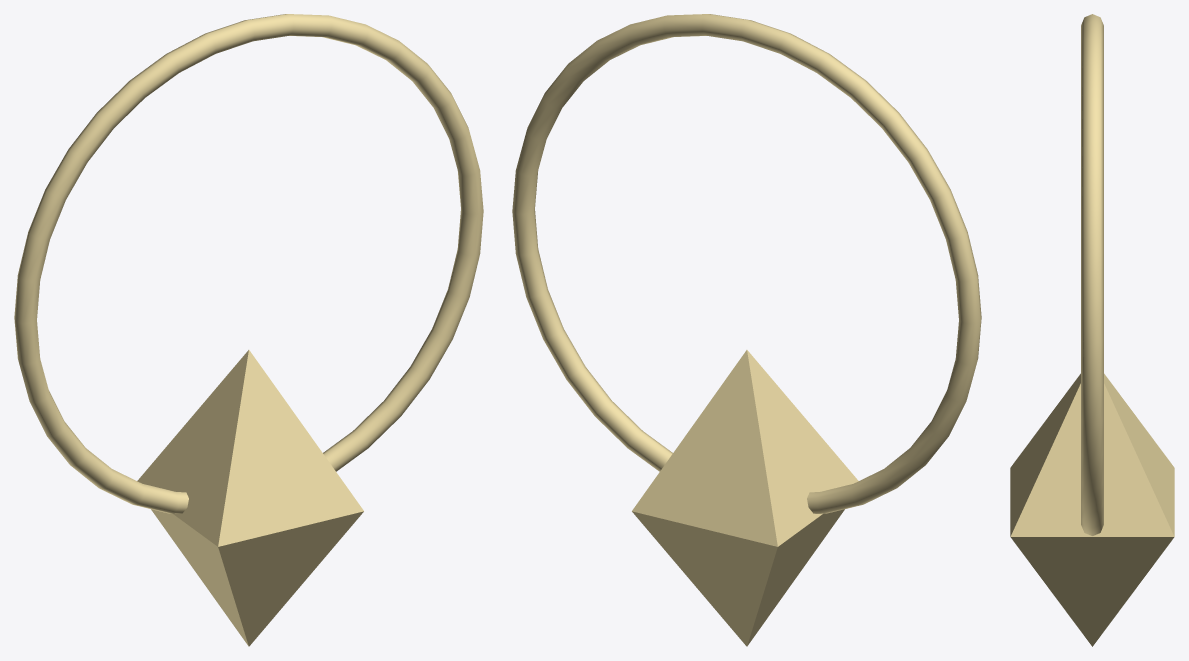
3 renders of one model, left to right at view 1: azimuth 30°, elevation 25°; view 2: azimuth 150°, elevation 25°; view 3: azimuth 270°, elevation 25°, orthographic. The views are drawn at different scales.
Parts seen in each view (by area): view 1: Jewelry; view 2: Jewelry; view 3: Jewelry.
Boxes of the visible parts, bbox=[...] form: Jewelry: bbox=[14, 14, 483, 646]; Jewelry: bbox=[512, 14, 981, 646]; Jewelry: bbox=[1010, 14, 1174, 646].
Bounding box in the file's own units: 1.15 × 1.47 × 0.36.
